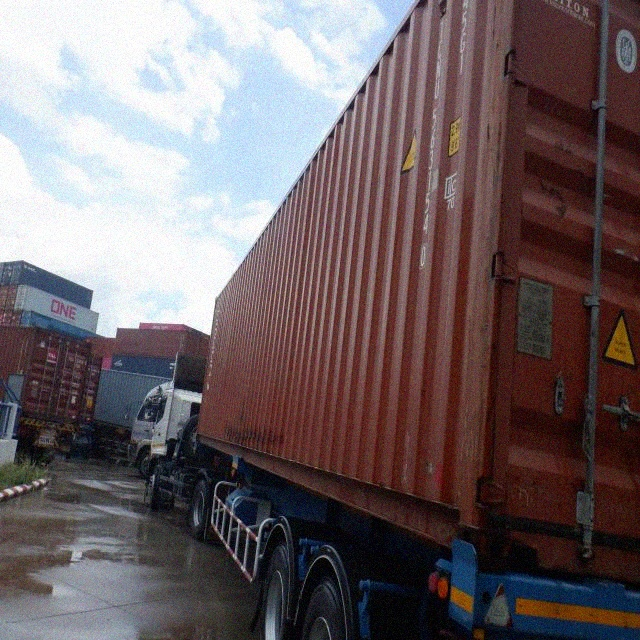Dent: (223, 424, 284, 449)
